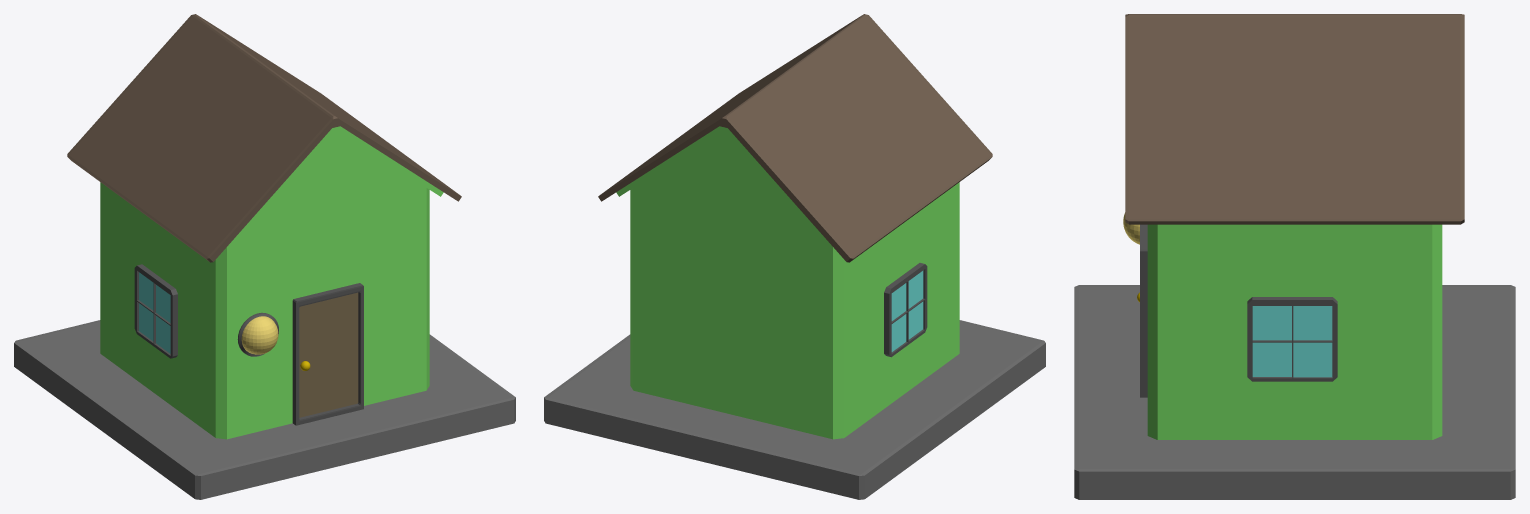
The model's file is GreenHouse.fbx.
3 renders of one model, left to right at view 1: azimuth 30°, elevation 25°; view 2: azimuth 150°, elevation 25°; view 3: azimuth 270°, elevation 25°, orthographic. The views are drawn at different scales.
Parts seen in each view (by area): view 1: Base; view 2: Base; view 3: Base.
Boxes of the visible parts, bbox=[...] form: Base: bbox=[14, 14, 515, 499]; Base: bbox=[544, 14, 1045, 499]; Base: bbox=[1074, 14, 1515, 499].
Size of the model in its own units: 300 by 294 by 300.
